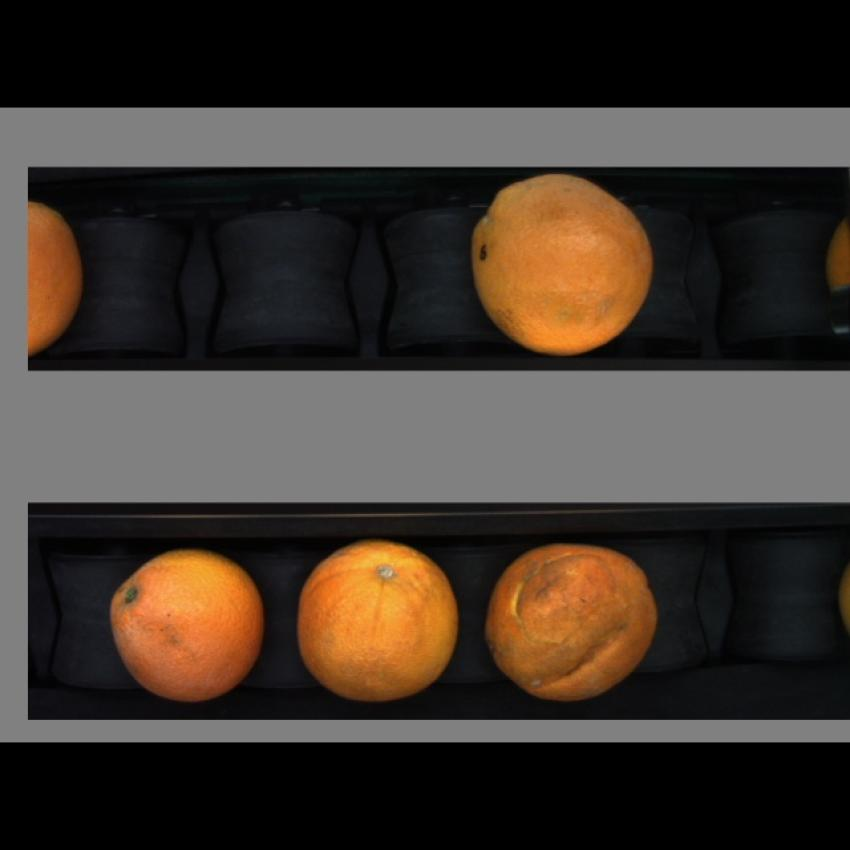Mal estado: (467, 168, 663, 356), (477, 543, 676, 704), (292, 535, 460, 698), (106, 538, 268, 702), (27, 196, 88, 356)
